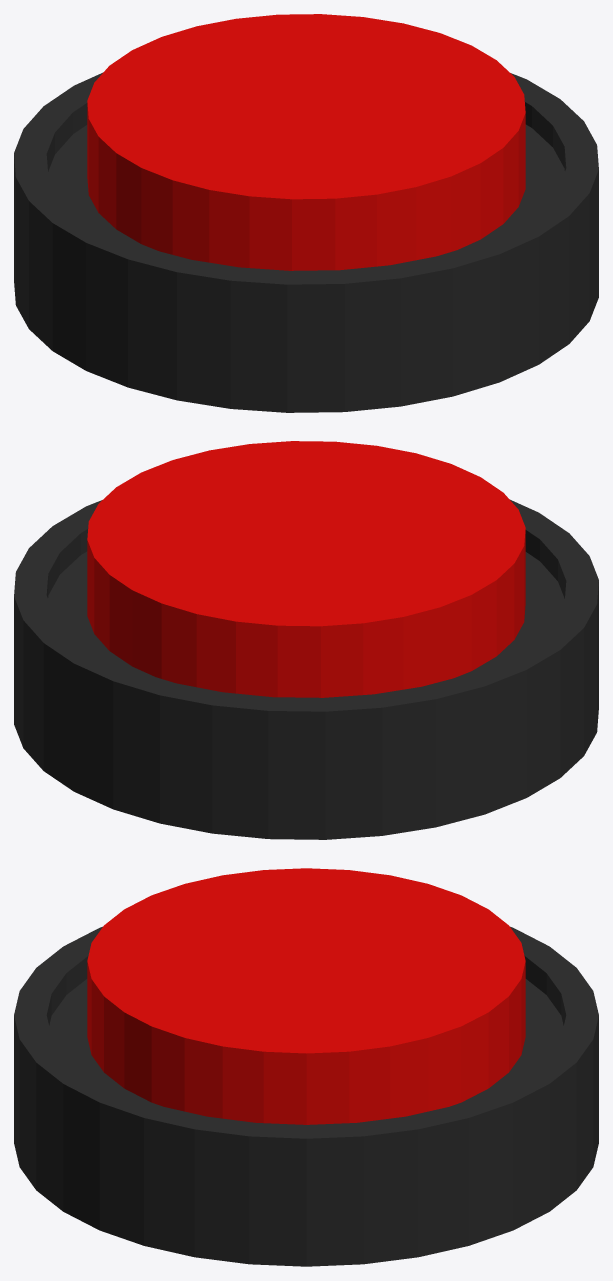
File: red_lowpoly_button.glb
3 renders of one model, top to bottom at view 1: azimuth 30°, elevation 25°; view 2: azimuth 150°, elevation 25°; view 3: azimuth 270°, elevation 25°, orthographic.
Visible parts, largest first — view 1: Cylinder, Cylinder.001; view 2: Cylinder, Cylinder.001; view 3: Cylinder, Cylinder.001.
Part boxes in pixels (x1=…): Cylinder: x1=14, y1=72, x2=598, y2=412; Cylinder.001: x1=87, y1=14, x2=525, y2=270; Cylinder: x1=14, y1=499, x2=598, y2=839; Cylinder.001: x1=87, y1=441, x2=525, y2=697; Cylinder: x1=14, y1=926, x2=598, y2=1266; Cylinder.001: x1=87, y1=868, x2=525, y2=1124.
Size of the model in its own units: 0.4 by 0.1375 by 0.4.
